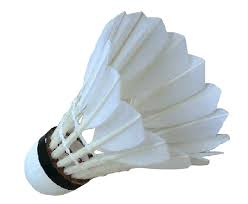shuttle: (13, 8, 232, 194)
